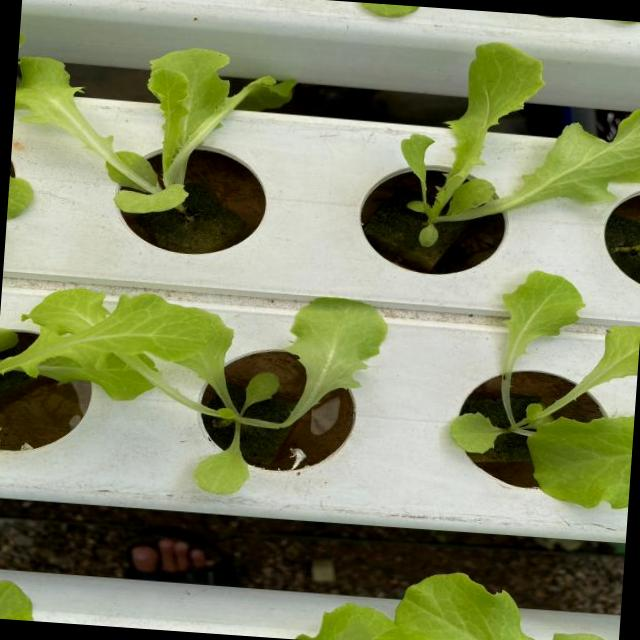Lettuce-Not-Ready-to-Harvest: (26, 270, 390, 506), (389, 38, 640, 269), (7, 34, 286, 232), (439, 265, 640, 508)
